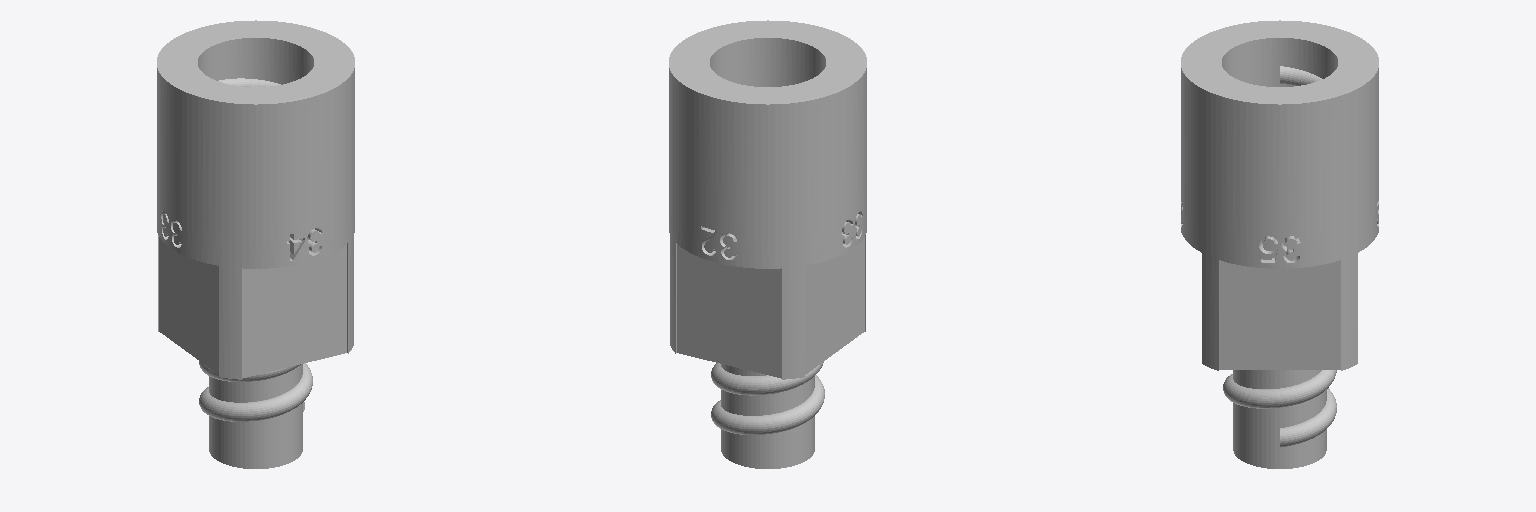
The model's file is round_table_leg.obj.
3 renders of one model, left to right at view 1: azimuth 30°, elevation 25°; view 2: azimuth 150°, elevation 25°; view 3: azimuth 270°, elevation 25°, orthographic.
Parts seen in each view (by area): view 1: round_leg, round_leg.003, round_leg.002; view 2: round_leg, round_leg.001, round_leg.002; view 3: round_leg, round_leg.004.
Boxes of the visible parts, <box> form: round_leg: <box>157,20,354,468</box>; round_leg.003: <box>242,243,347,378</box>; round_leg.002: <box>158,235,218,374</box>; round_leg: <box>669,20,866,468</box>; round_leg.001: <box>676,243,781,378</box>; round_leg.002: <box>805,235,865,374</box>; round_leg: <box>1181,20,1378,468</box>; round_leg.004: <box>1219,260,1340,369</box>.
Bounding box in the file's own units: 0.0425 × 0.0913 × 0.0425.